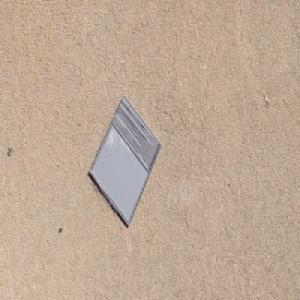PlasticPart: (88, 94, 162, 228)
